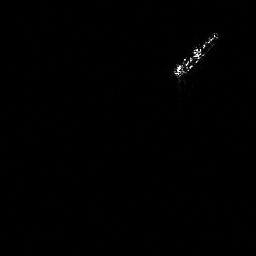ship: (170, 30, 221, 80)
